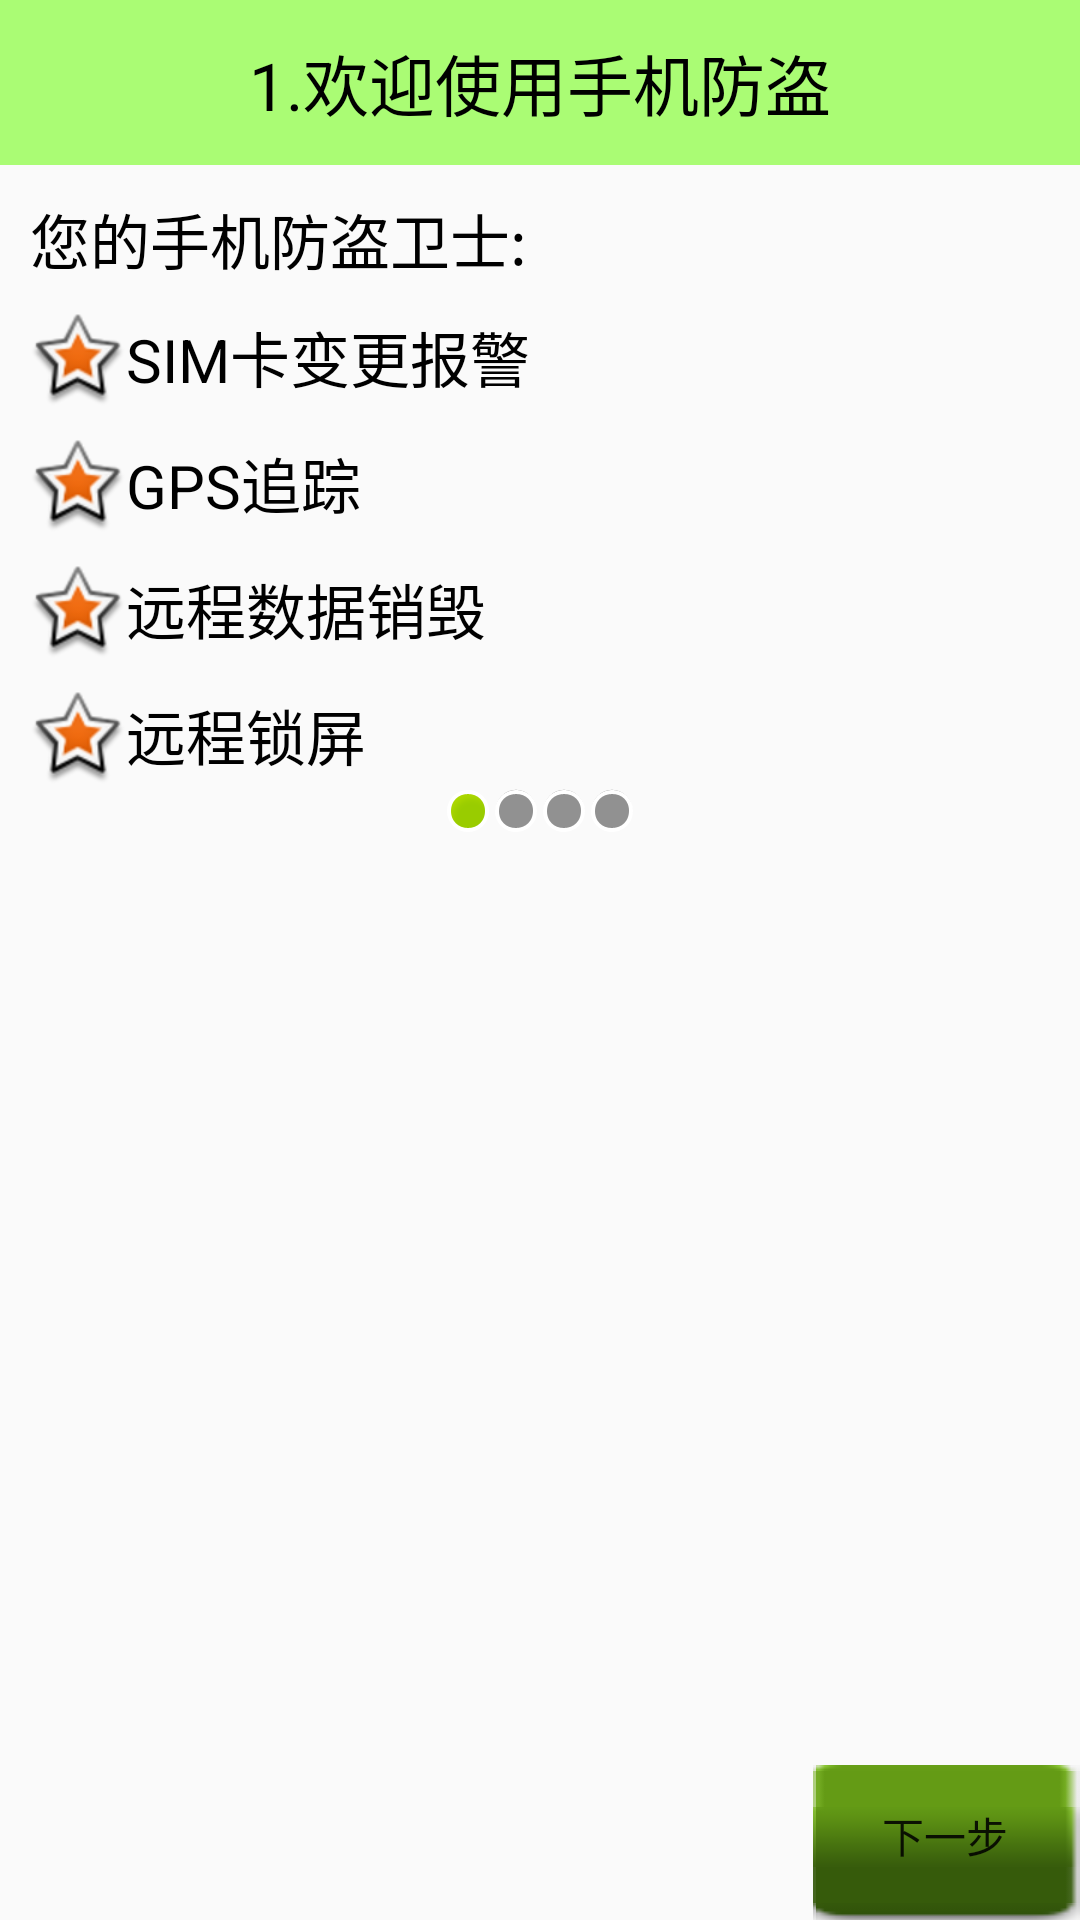

Icons on this 1080w x 1920h Android screen, each with its box as (x1, y1, x2, y2):
presence invisible: (499, 790, 533, 828), (547, 790, 581, 828), (595, 790, 629, 828)
presence online: (451, 794, 485, 828)
